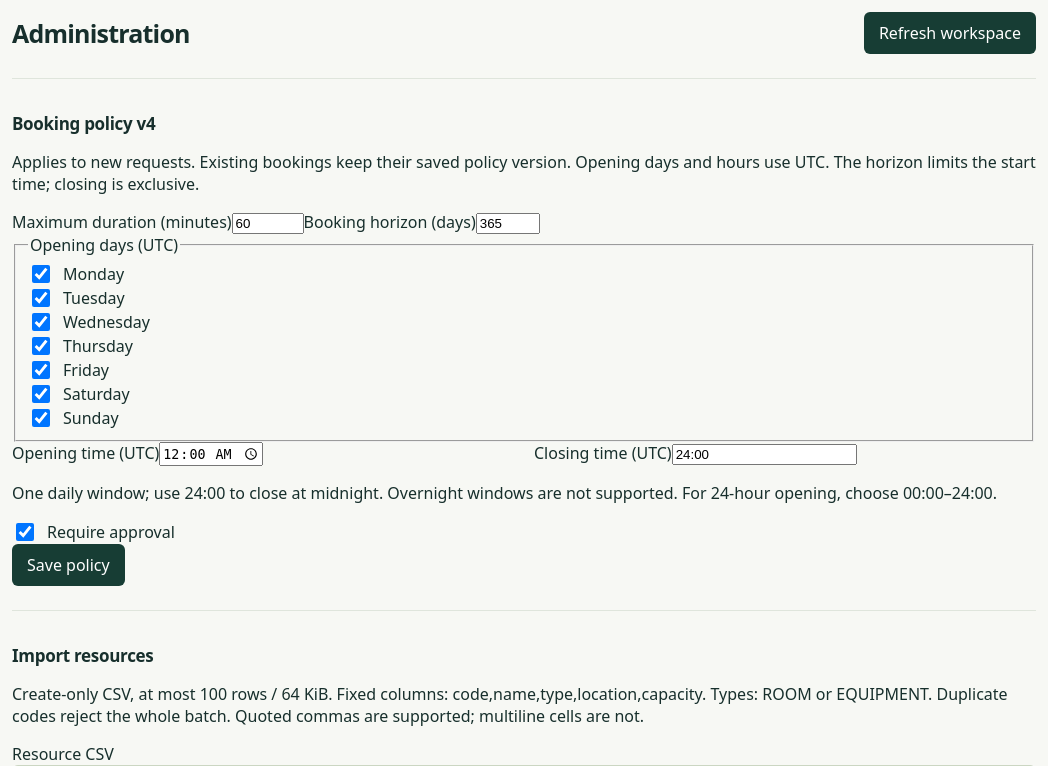
Test: operations workspace › keeps policy edits visible when a stale save is rejected and refreshes only on request
This screenshot has width=1048, height=766.
Expected: the text "v4" is shown, [136,112,155,135]
Step 1. Replace the text in the number field labelled "Maximum duration (minutes)" with "30" → (268, 224), box [232,213,304,234]
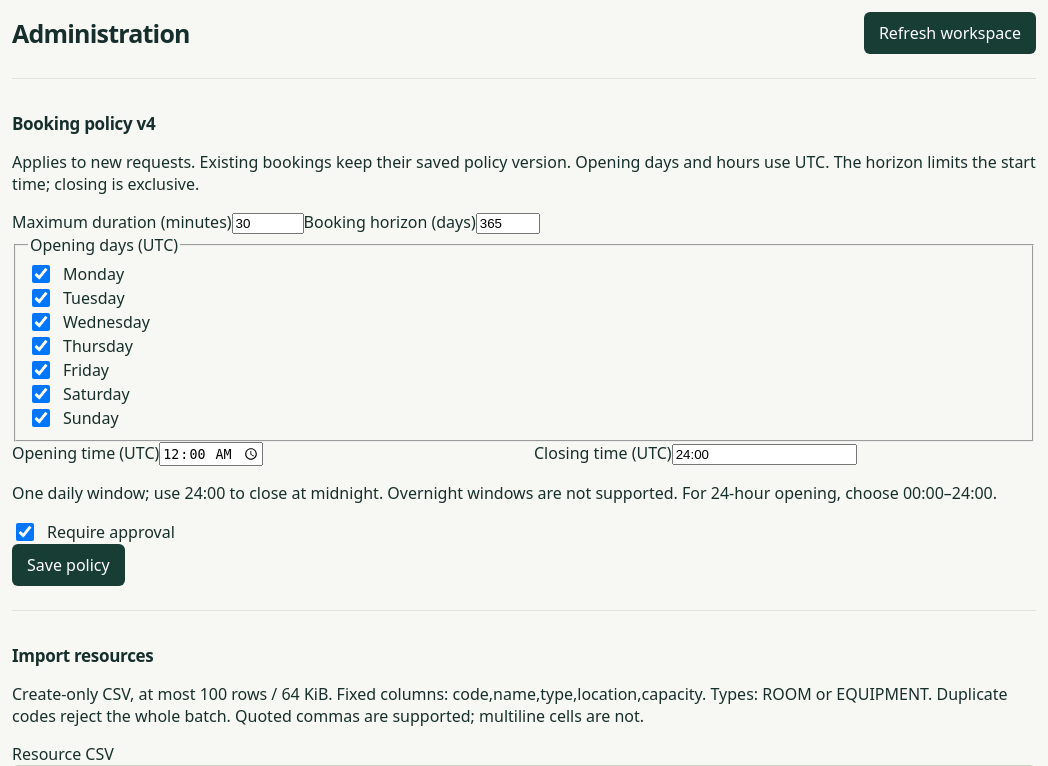
Step 2. Click the checkbox labelled "Require approval" → (25, 532), box [16,523,34,541]
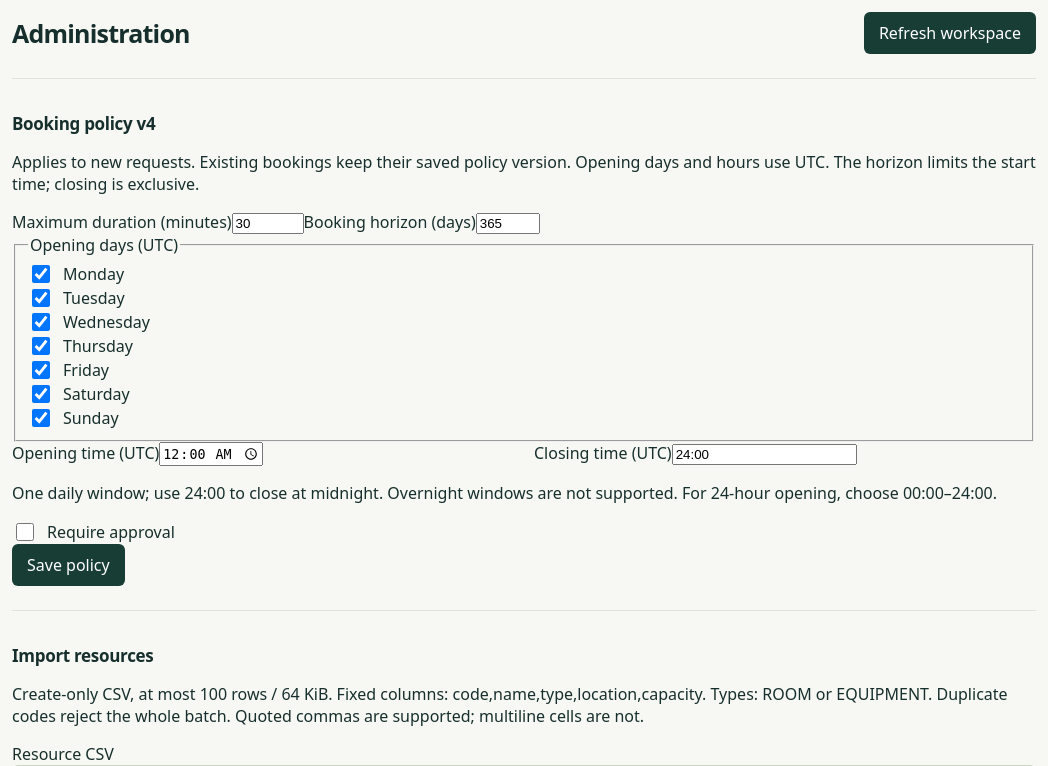
Step 3. Click the button "Save policy" → (68, 565), box [12,544,125,586]
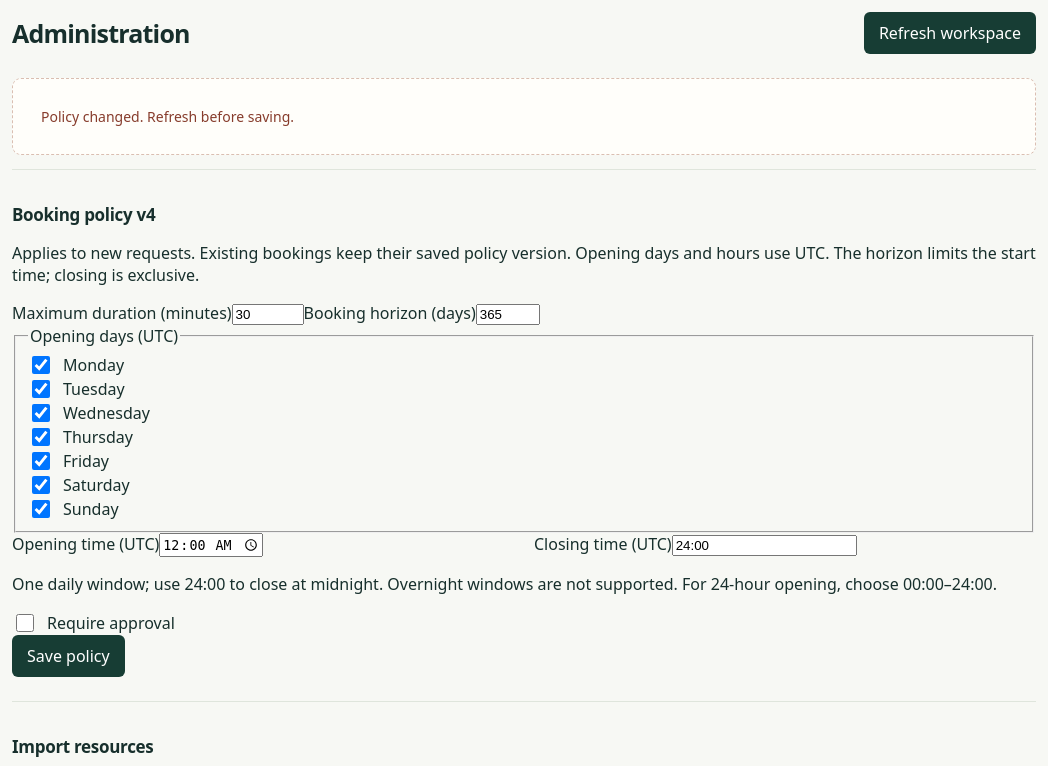
Result: the message shows "Policy changed" at [41,107,294,126]
Step 4. Click the button "Refresh workspace" → (950, 33), box [864,12,1036,54]
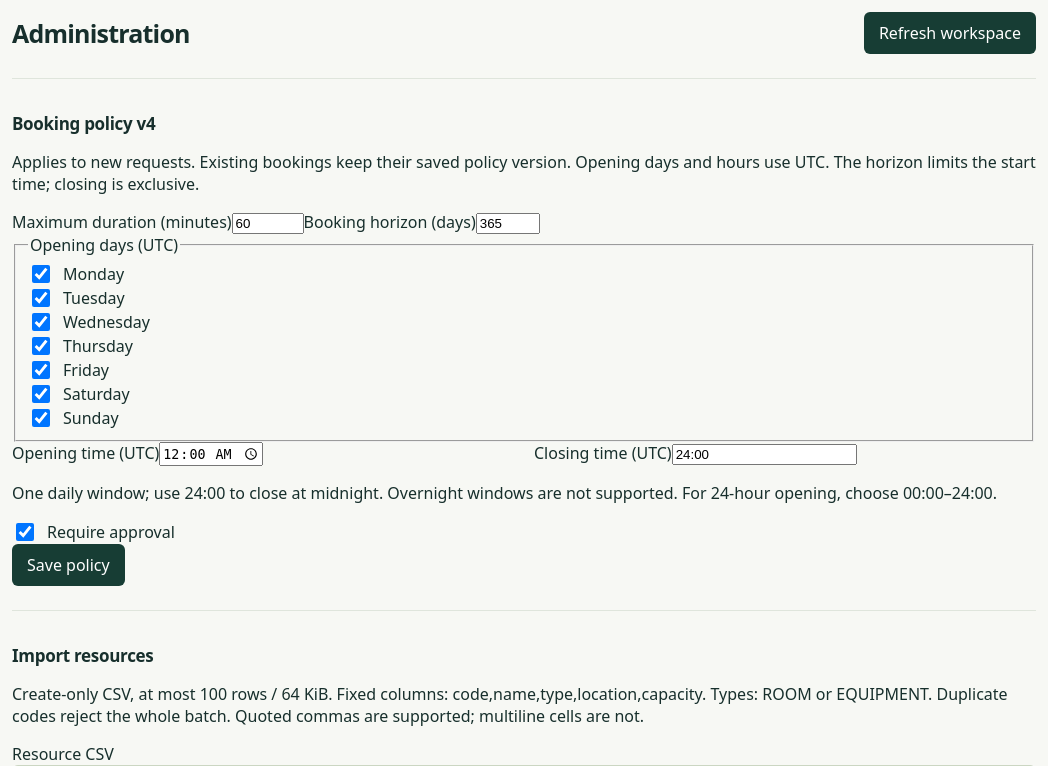
Result: the number field labelled "Maximum duration (minutes)" holds "60" at [232,213,304,234]
